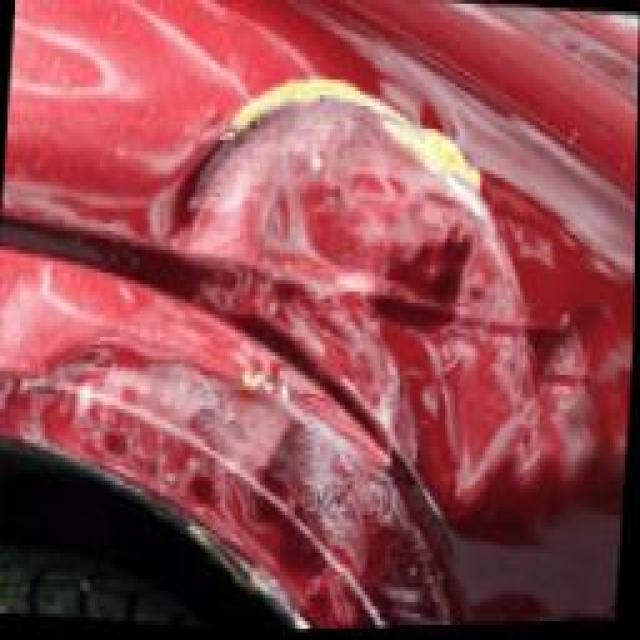Fender: (12, 23, 579, 640)
